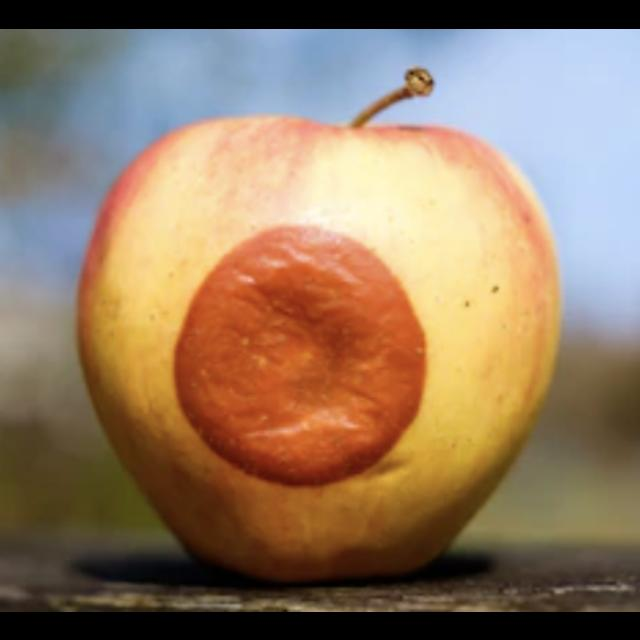Apel Segar: (75, 120, 565, 408)
Apel Tidak Segar: (155, 203, 487, 501)
